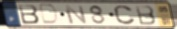8: (89, 5, 109, 25)
B: (134, 4, 158, 26), (17, 4, 41, 25)
C: (113, 5, 138, 26)
D: (39, 3, 60, 26)
N: (62, 4, 89, 25)
